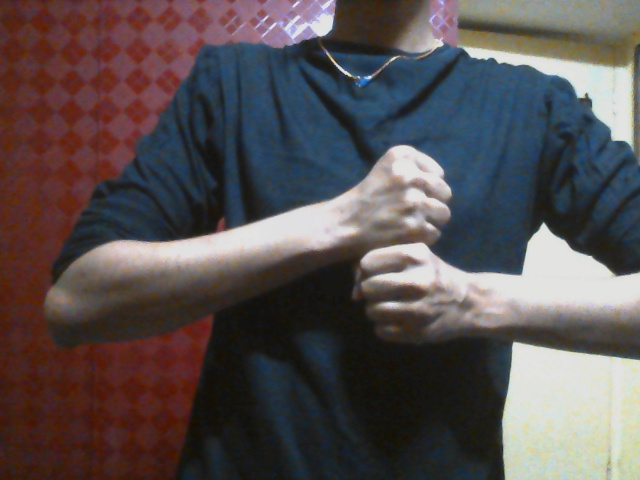G: (349, 144, 466, 349)
